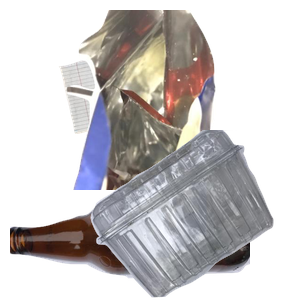glass: (10, 188, 250, 300)
paper: (56, 40, 229, 166)
plastic: (88, 130, 300, 300)
trash: (63, 10, 300, 190)
